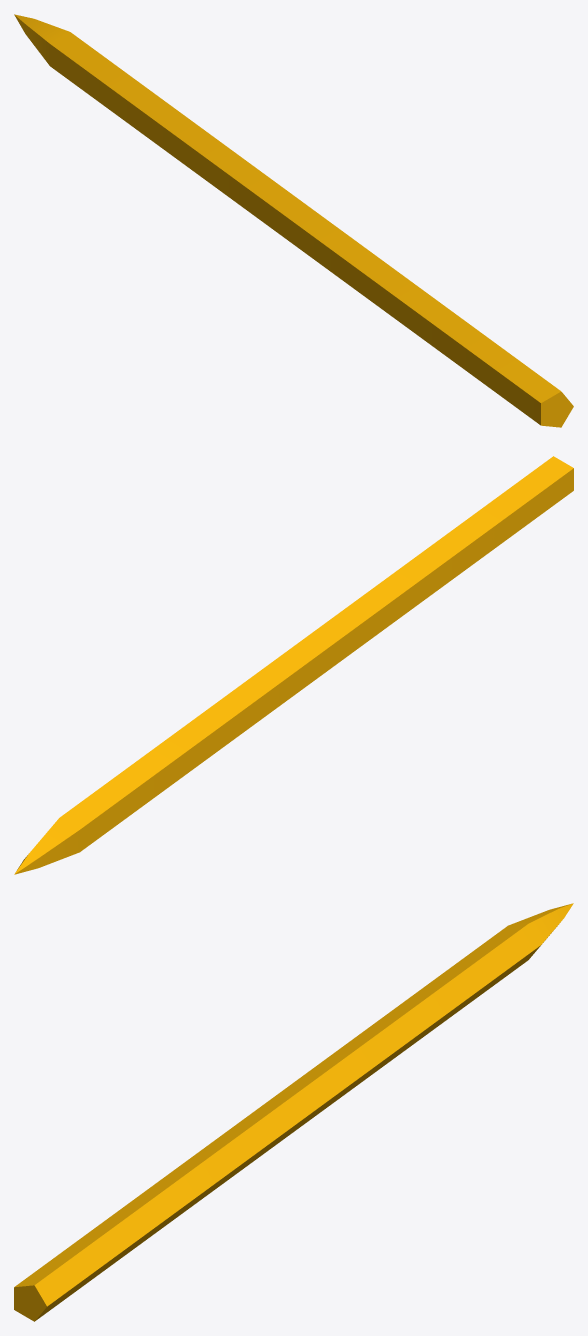
File: Pen.FBX
3 renders of one model, top to bottom at view 1: azimuth 30°, elevation 25°; view 2: azimuth 150°, elevation 25°; view 3: azimuth 330°, elevation 25°, orthographic.
Visible parts, largest first — view 1: Object006; view 2: Object006; view 3: Object006.
Boxes of the visible parts, box(x1,y1,x2,y2) form: Object006: box(14, 14, 573, 427); Object006: box(14, 456, 573, 874); Object006: box(14, 903, 573, 1321).
Bounding box in the file's own units: 0.5427 × 0.5706 × 15.45.
